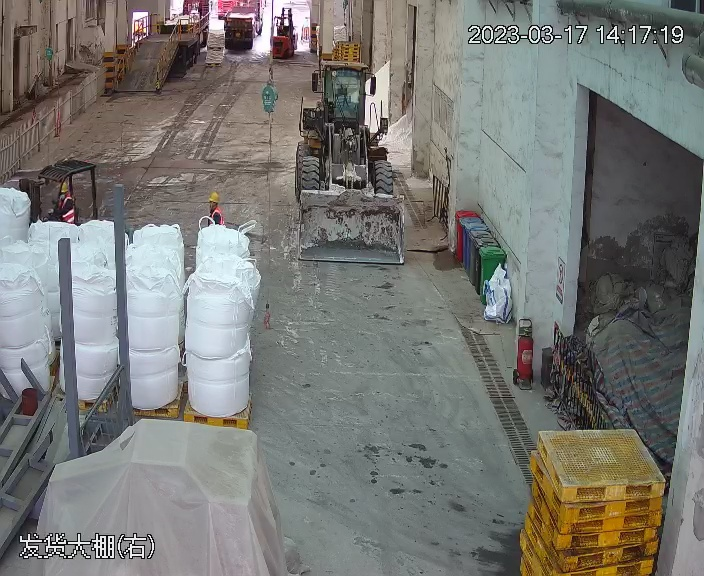helmet: (207, 190, 221, 203)
people: (206, 191, 226, 227)
truck: (215, 1, 266, 51)
